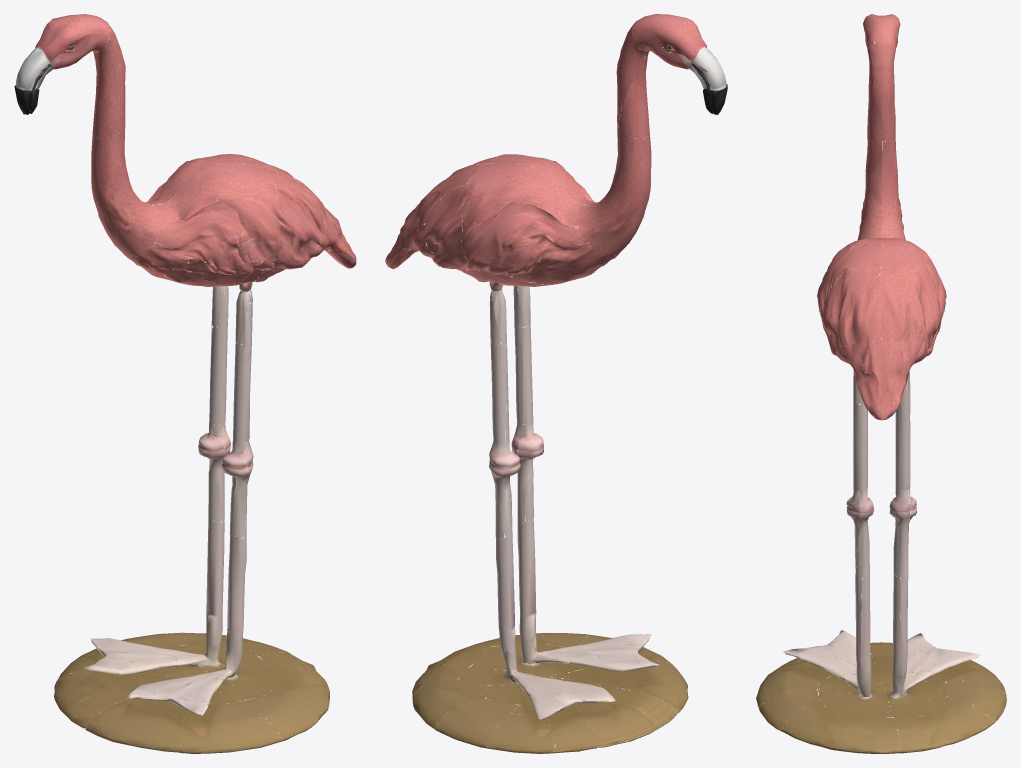
File: flamenco.glb
The picture shows the model from 3 angles, left to right: view 1: azimuth 30°, elevation 25°; view 2: azimuth 150°, elevation 25°; view 3: azimuth 270°, elevation 25°; orthographic projection. The views are drawn at different scales.
Visible parts, largest first — view 1: tripo_node_be7ab97a-47e7-4a37-878a-37836e21dc64; view 2: tripo_node_be7ab97a-47e7-4a37-878a-37836e21dc64; view 3: tripo_node_be7ab97a-47e7-4a37-878a-37836e21dc64.
Part boxes in pixels (x1=…): tripo_node_be7ab97a-47e7-4a37-878a-37836e21dc64: x1=14, y1=14, x2=356, y2=753; tripo_node_be7ab97a-47e7-4a37-878a-37836e21dc64: x1=385, y1=14, x2=727, y2=753; tripo_node_be7ab97a-47e7-4a37-878a-37836e21dc64: x1=756, y1=14, x2=1006, y2=753.
Bounding box in the file's own units: 0.489 × 0.9803 × 0.3514.
1 material, 1 textured.
